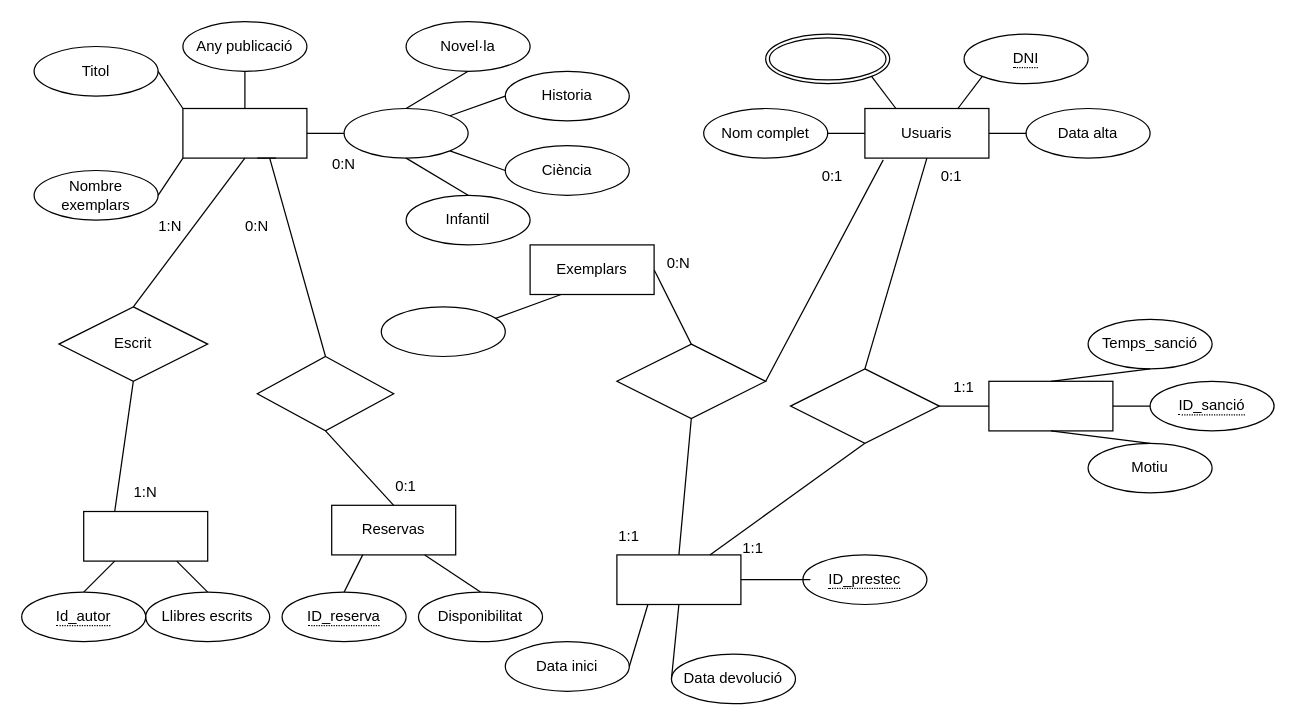
This 1296x725 diagram has some shape labels left out. The shapes that lost their labels are listed below. From the top down, each one's centre as x and y in pixels, then its label:
(x=827, y=58): Num telefon
(x=244, y=132): Llibre
(x=405, y=132): Classificació
(x=442, y=331): Codi
(x=325, y=393): Fer
(x=691, y=380): demanar
(x=864, y=405): No retorn
(x=1050, y=405): Sanció
(x=145, y=535): Autors
(x=678, y=579): Prestec
